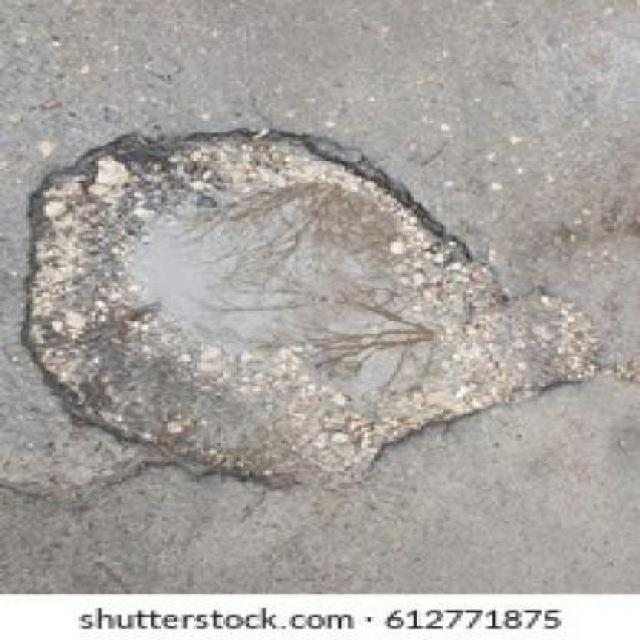Pothole: (19, 123, 601, 489)
